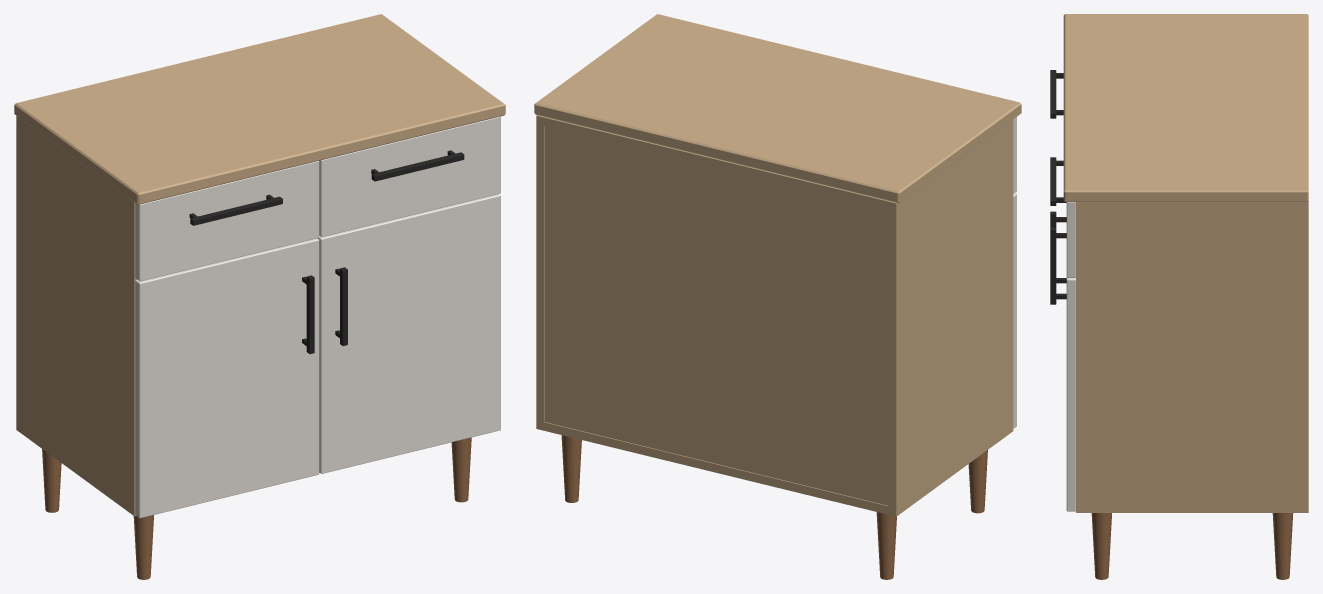
File: 43_komoda_80_2d_sz.glb
3 renders of one model, left to right at view 1: azimuth 30°, elevation 25°; view 2: azimuth 150°, elevation 25°; view 3: azimuth 270°, elevation 25°, orthographic.
Parts seen in each view (by area): view 1: Wierzch, Front_drzwi_2, Front_drzwi_4, Korpus, Front_szuflada_1, Front_szuflada_3, Uchwyty, Nogi; view 2: Korpus, Wierzch, Nogi, Front_drzwi_2; view 3: Korpus, Wierzch, Front_drzwi_4, Nogi, Uchwyty, Front_szuflada_3.
Boxes of the visible parts, x1=… form: Wierzch: x1=14, y1=14, x2=505, y2=204; Front_drzwi_2: x1=135, y1=238, x2=319, y2=518; Front_drzwi_4: x1=317, y1=194, x2=500, y2=473; Korpus: x1=16, y1=116, x2=136, y2=516; Front_szuflada_1: x1=135, y1=161, x2=319, y2=281; Front_szuflada_3: x1=319, y1=116, x2=500, y2=237; Uchwyty: x1=189, y1=150, x2=464, y2=353; Nogi: x1=42, y1=437, x2=471, y2=579; Korpus: x1=536, y1=115, x2=1013, y2=516; Wierzch: x1=534, y1=14, x2=1021, y2=203; Nogi: x1=561, y1=435, x2=987, y2=579; Front_drzwi_2: x1=1013, y1=193, x2=1016, y2=428; Korpus: x1=1076, y1=201, x2=1308, y2=512; Wierzch: x1=1063, y1=14, x2=1308, y2=201; Front_drzwi_4: x1=1066, y1=277, x2=1075, y2=511; Nogi: x1=1091, y1=513, x2=1293, y2=579; Uchwyty: x1=1050, y1=70, x2=1066, y2=304; Front_szuflada_3: x1=1066, y1=202, x2=1075, y2=277.
Bounding box in the file's own units: 0.812 × 0.85 × 0.5.
